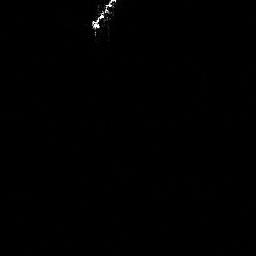ship: (91, 1, 118, 38)
